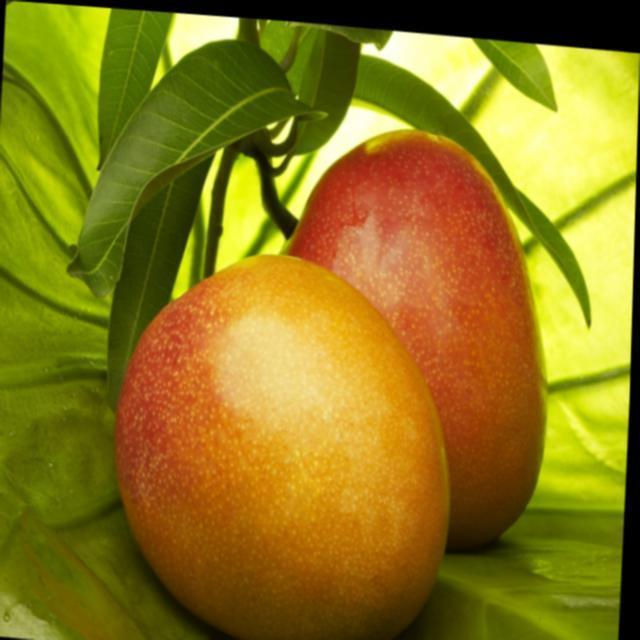Mango: (121, 247, 455, 640), (288, 126, 548, 542)
